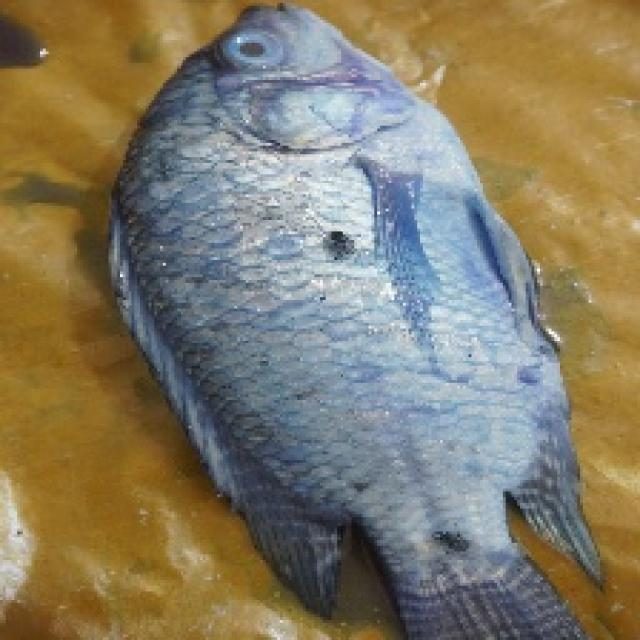Non-Fresh: (129, 0, 588, 575), (206, 22, 292, 74)
